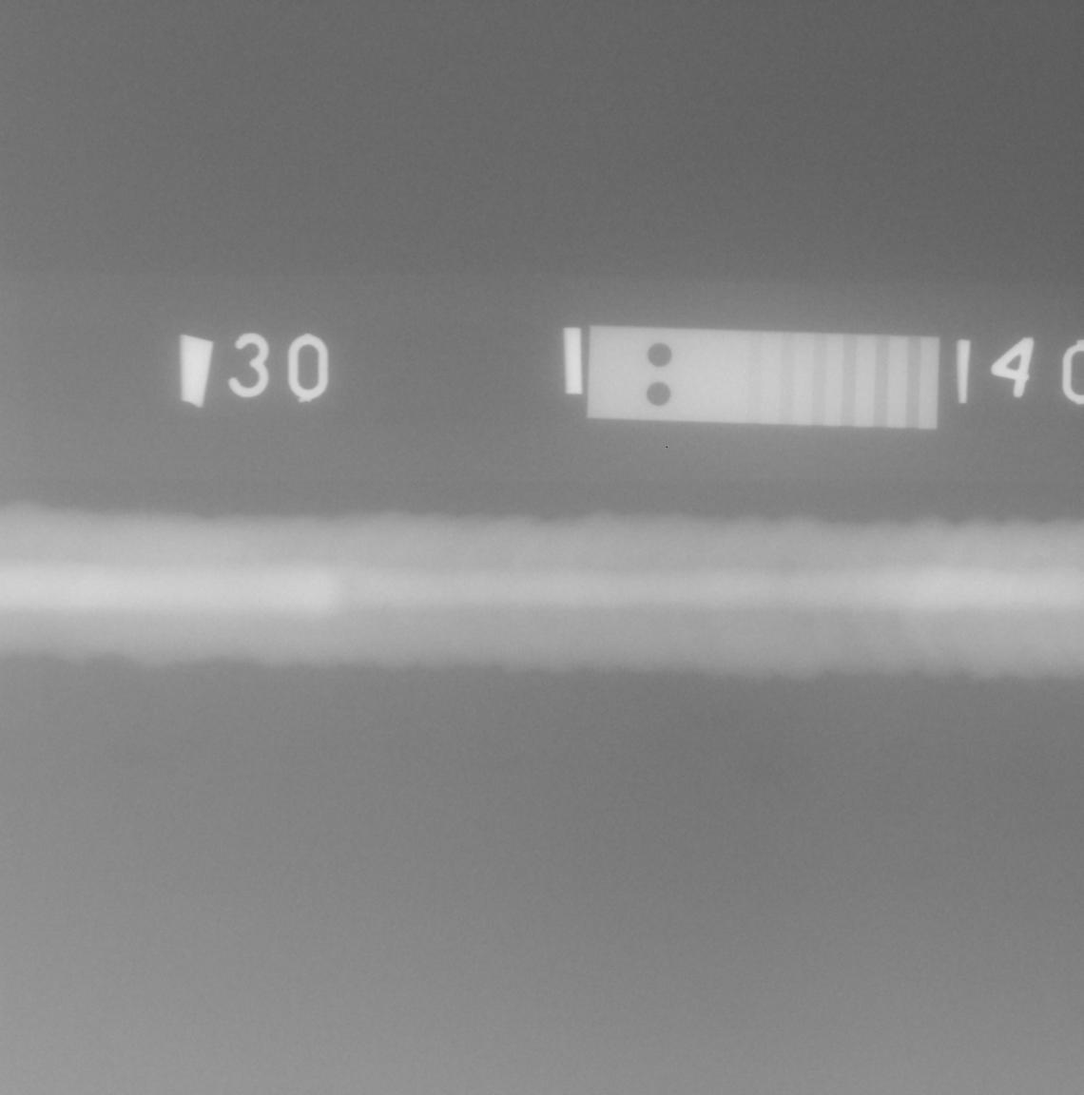Reference Standard 2: (586, 324, 940, 430)
